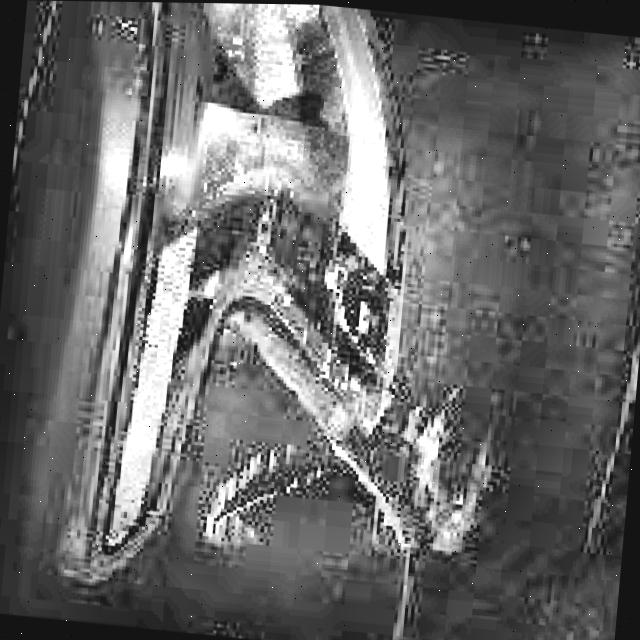tail_lamp: (150, 2, 389, 336)
